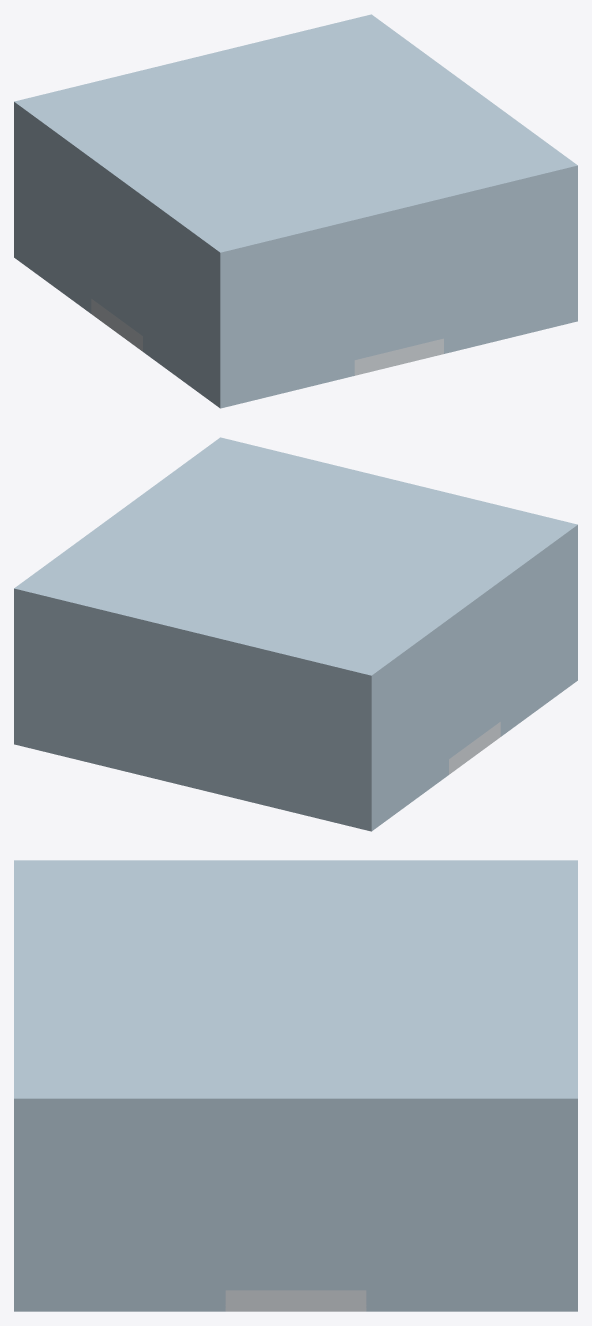
File: frost-shrine.glb
3 views of the same model, one above another, from view 1: azimuth 30°, elevation 25°; view 2: azimuth 150°, elevation 25°; view 3: azimuth 270°, elevation 25° (orthographic). The views are drawn at different scales.
Parts seen in each view (by area): view 1: ice-rock_19, ice-rock_8, plug_ice_south, ice-rock_14, ice-rock_15, ice-rock_6, plug_ice_west, ice-rock_13, ice-rock_10, ice-rock_11, ice-rock_12, ice-rock_18 (+7 smaller); view 2: ice-rock_19, ice-rock_1, ice-rock_8, ice-rock_6, plug_ice_west, ice-rock_4, ice-rock_2, ice-rock_16, snow_6; view 3: ice-rock_19, ice-rock_9, plug_ice_east, ice-rock_7, ice-rock_3, ice-rock_5, ice-rock_17, ice-rock_1, snow_9.
Boxes of the visible parts, x1,y1,x2,y2 form: ice-rock_19: [14, 14, 577, 268]; ice-rock_8: [143, 212, 235, 408]; plug_ice_south: [354, 245, 443, 359]; ice-rock_14: [295, 235, 354, 390]; ice-rock_15: [444, 199, 503, 353]; ice-rock_6: [57, 149, 91, 313]; plug_ice_west: [91, 205, 142, 335]; ice-rock_13: [503, 192, 533, 339]; ice-rock_10: [235, 257, 264, 404]; ice-rock_11: [533, 185, 562, 332]; ice-rock_12: [265, 250, 294, 397]; ice-rock_18: [354, 214, 443, 266]; ice-rock_19: [14, 437, 577, 691]; ice-rock_1: [14, 604, 379, 831]; ice-rock_8: [500, 540, 577, 736]; ice-rock_6: [414, 635, 448, 799]; plug_ice_west: [449, 628, 500, 758]; ice-rock_4: [397, 660, 414, 812]; ice-rock_2: [380, 673, 397, 824]; ice-rock_16: [449, 597, 500, 665]; snow_6: [449, 722, 500, 774]; ice-rock_19: [14, 860, 577, 1119]; ice-rock_9: [14, 1120, 225, 1311]; plug_ice_east: [225, 1162, 366, 1290]; ice-rock_7: [366, 1120, 460, 1311]; ice-rock_3: [507, 1120, 554, 1311]; ice-rock_5: [460, 1120, 507, 1311]; ice-rock_17: [225, 1120, 366, 1162]; ice-rock_1: [554, 1120, 577, 1311]; snow_9: [225, 1290, 366, 1311].
Size of the model in its own units: 12 by 5 by 12.
